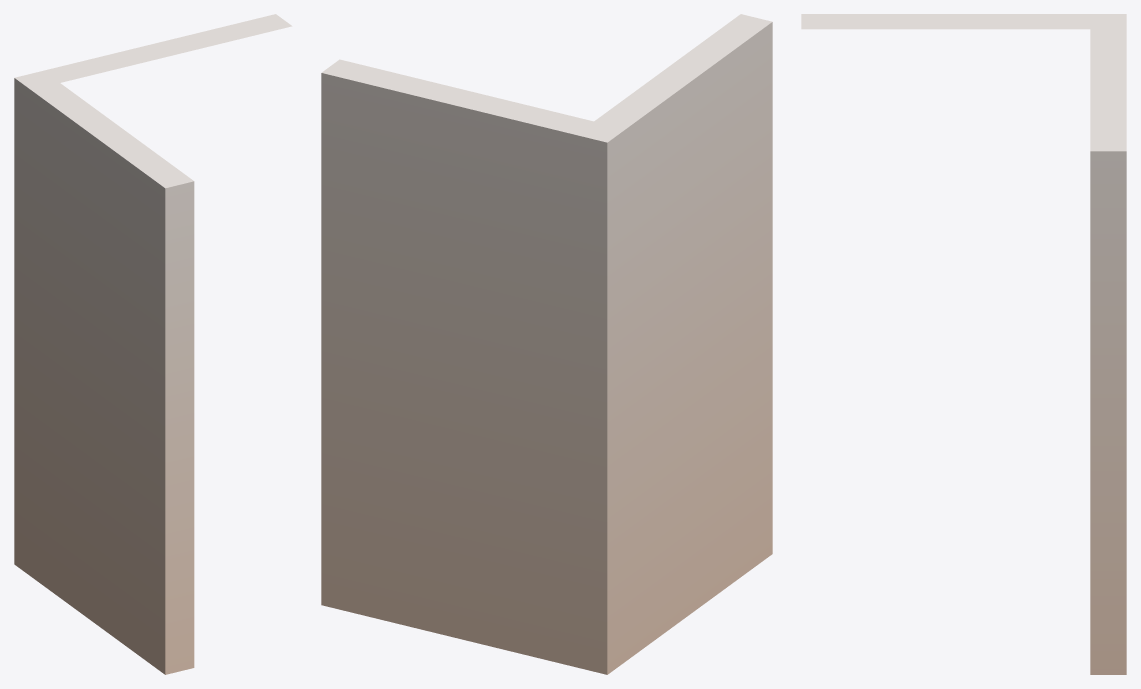
File: wall-modular-panelled-bakery-corner-inner-a.glb
3 views of the same model, side by side, from view 1: azimuth 30°, elevation 25°; view 2: azimuth 150°, elevation 25°; view 3: azimuth 270°, elevation 25° (orthographic). The views are drawn at different scales.
Visible parts, largest first — view 1: wall_modular_panelled_bakery_corner_inner_A; view 2: wall_modular_panelled_bakery_corner_inner_A; view 3: wall_modular_panelled_bakery_corner_inner_A.
Part boxes in pixels (left/top/right/bottom): wall_modular_panelled_bakery_corner_inner_A: left=14, top=14, right=292, bottom=674; wall_modular_panelled_bakery_corner_inner_A: left=321, top=14, right=772, bottom=674; wall_modular_panelled_bakery_corner_inner_A: left=801, top=14, right=1126, bottom=674.
Size of the model in its own units: 2.25 by 4 by 2.25.
1 material, 1 textured.
